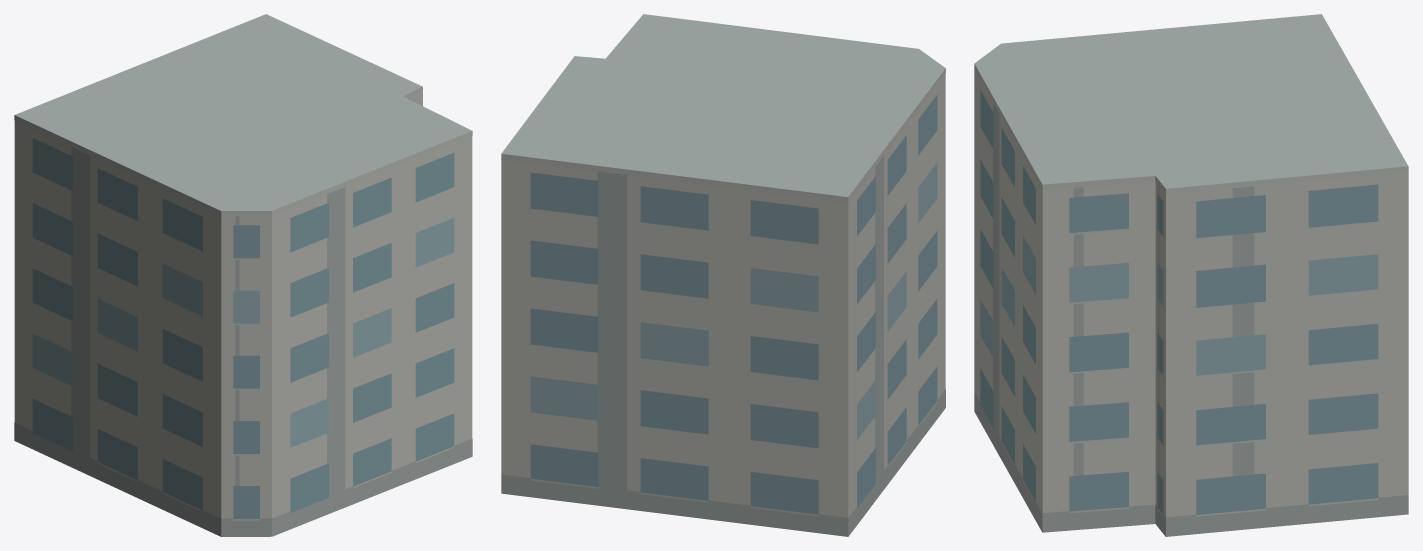
File: survey-upis-32994239.glb
3 views of the same model, side by side, from view 1: azimuth 30°, elevation 25°; view 2: azimuth 150°, elevation 25°; view 3: azimuth 270°, elevation 25° (orthographic). The views are drawn at different scales.
Parts seen in each view (by area): view 1: survey-upis-32994239.tmp; view 2: survey-upis-32994239.tmp; view 3: survey-upis-32994239.tmp.
Part boxes in pixels (left/top/right/bottom): survey-upis-32994239.tmp: left=14, top=14, right=472, bottom=536; survey-upis-32994239.tmp: left=501, top=14, right=945, bottom=536; survey-upis-32994239.tmp: left=974, top=14, right=1408, bottom=536.
Bounding box in the file's own units: 15.88 × 14.73 × 16.66.
